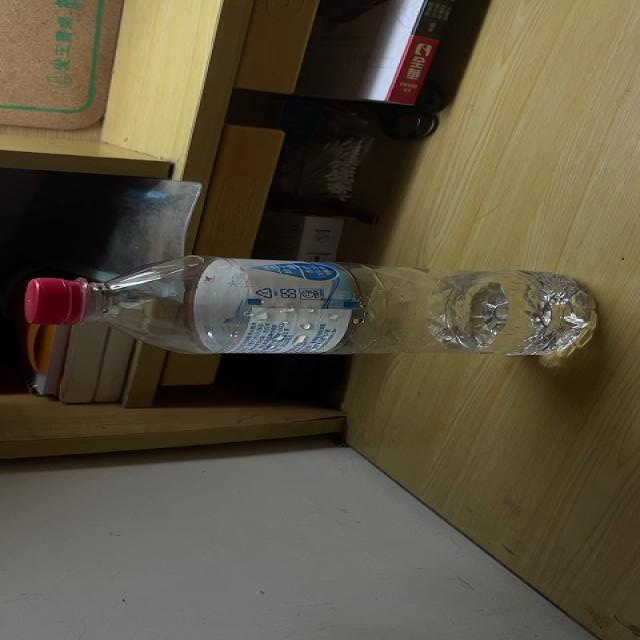Water: (24, 257, 597, 354)
